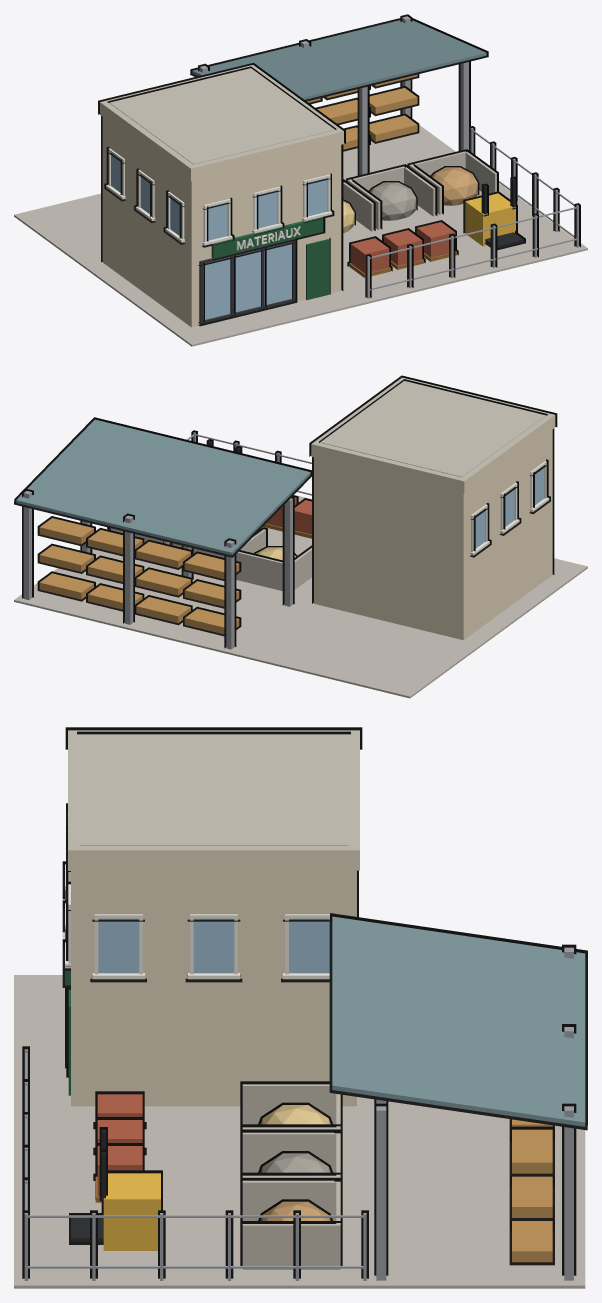
Rendered from Sanayi_depo_insaat.fbx.
3 views of the same model, one above another, from view 1: azimuth 30°, elevation 25°; view 2: azimuth 150°, elevation 25°; view 3: azimuth 270°, elevation 25° (orthographic). The views are drawn at different scales.
Parts seen in each view (by area): view 1: Sanayi_depo_insaat; view 2: Sanayi_depo_insaat; view 3: Sanayi_depo_insaat.
Part boxes in pixels (left/top/right/bottom): Sanayi_depo_insaat: left=14, top=14, right=587, bottom=346; Sanayi_depo_insaat: left=14, top=375, right=587, bottom=698; Sanayi_depo_insaat: left=14, top=727, right=587, bottom=1288.
Bounding box in the file's own units: 18 × 7.63 × 14.06.
